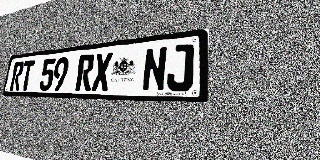5: (39, 58, 56, 91)
9: (51, 56, 70, 91)
J: (166, 43, 194, 91)
N: (141, 46, 168, 91)
R: (75, 54, 95, 91), (10, 61, 24, 90)
T: (19, 60, 35, 90)
X: (91, 52, 113, 91)
